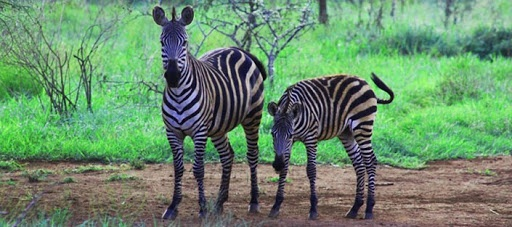zebra: (148, 4, 268, 224), (265, 69, 395, 222)
